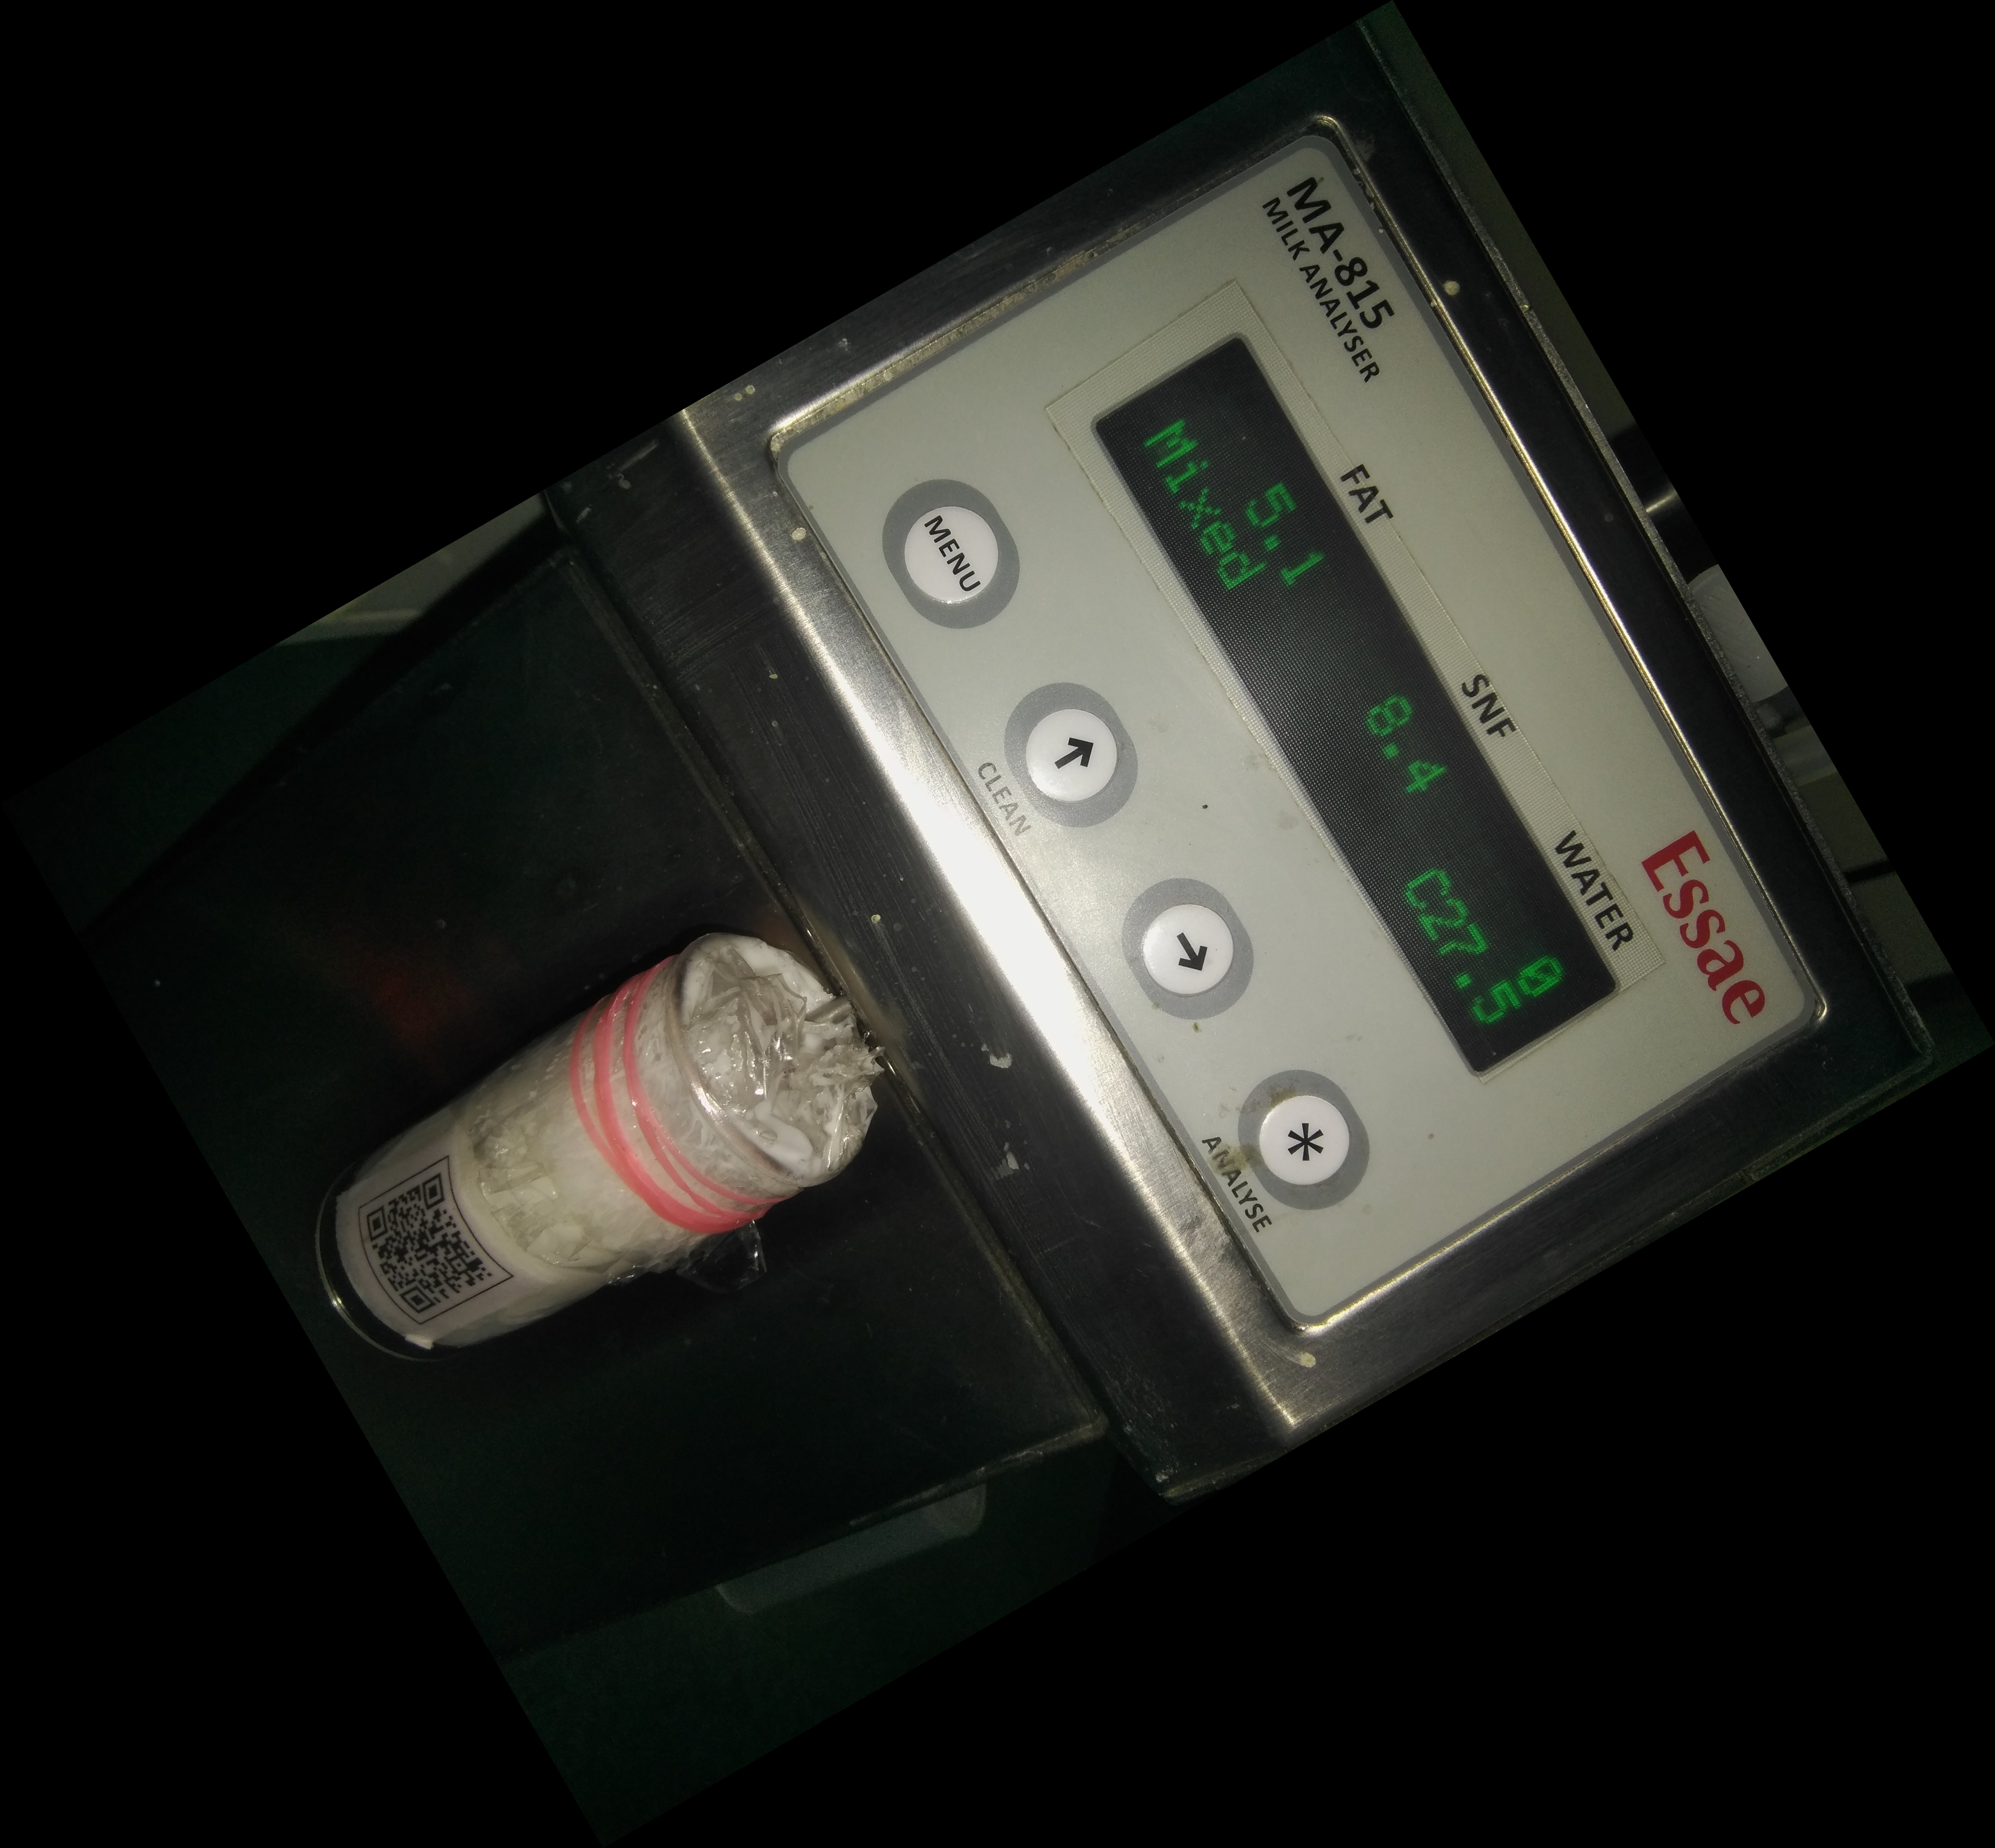lcd: (1072, 320, 1639, 1081)
qr: (339, 1140, 514, 1328)
